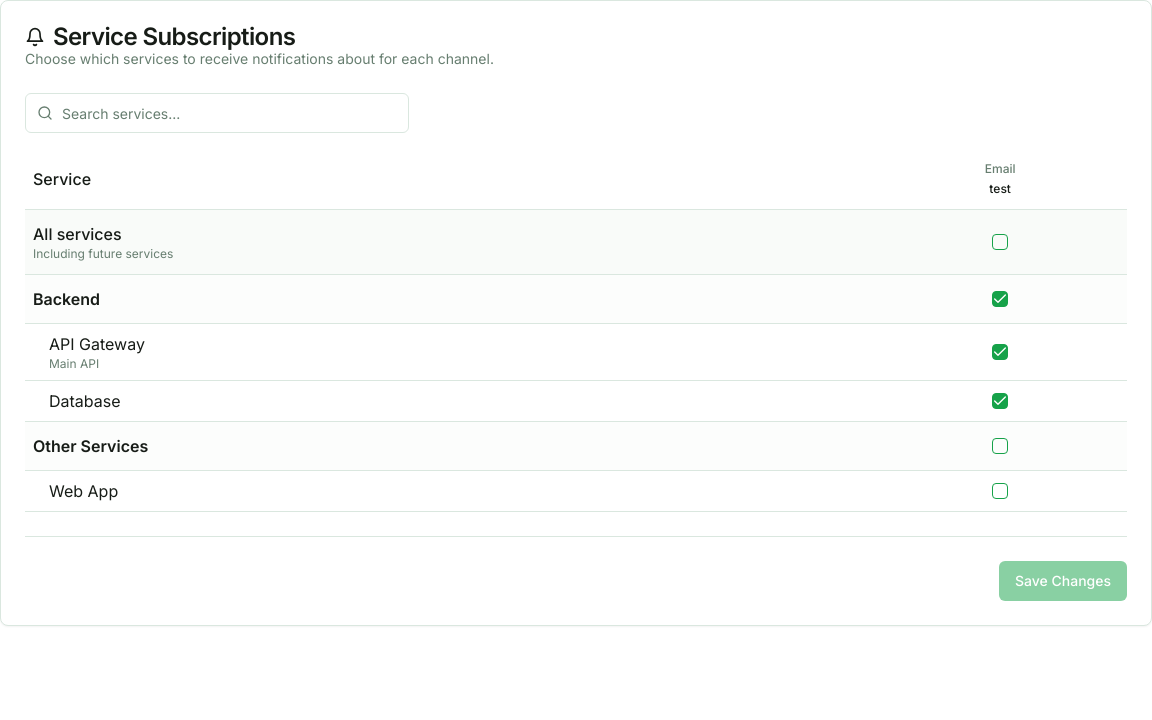
Test: SubscriptionEditor › Group Checkbox › deselects all services in a group when checked group checkbox is clicked
Expected: the text "Backend" is shown, [33,289,100,309]
Expected: the checkbox in the row of "API Gateway" is checked, [992,344,1008,360]
# Click the group checkbox to deselect all
Click the checkbox in the row of "Backend" at (1000, 299), box [992,291,1008,307]
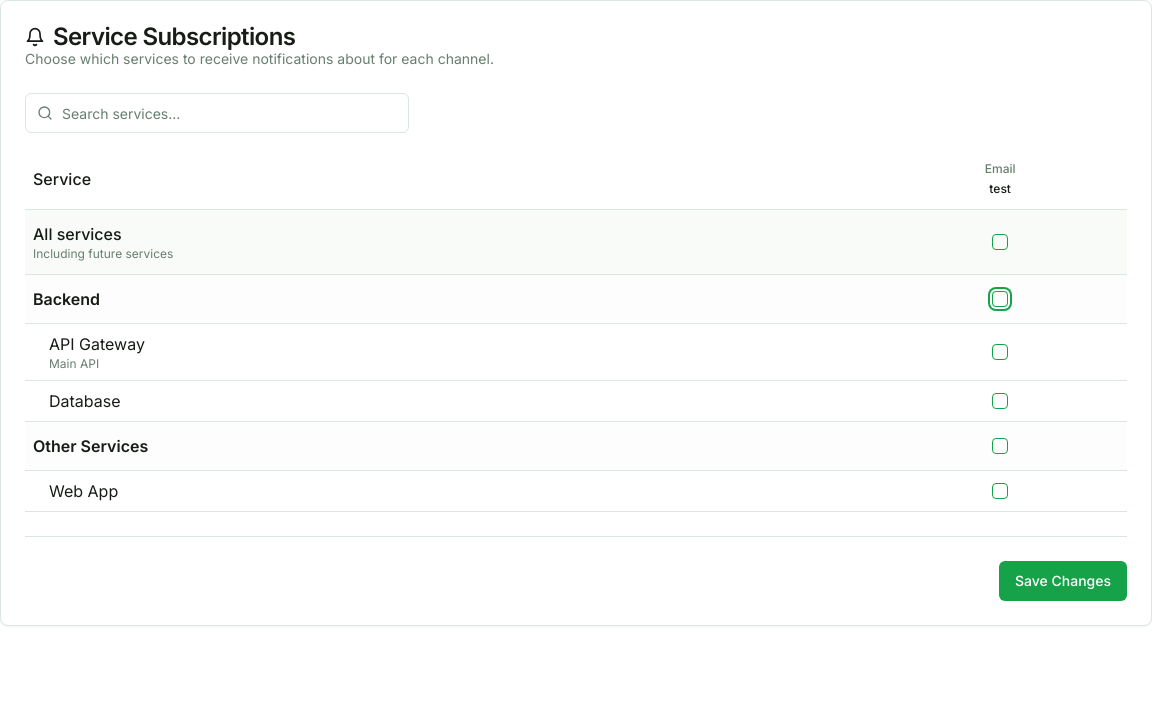
Now the checkbox in the row of "API Gateway" is not checked, box [992,344,1008,360]
Now the checkbox in the row of "Database" is not checked, box [992,393,1008,409]
